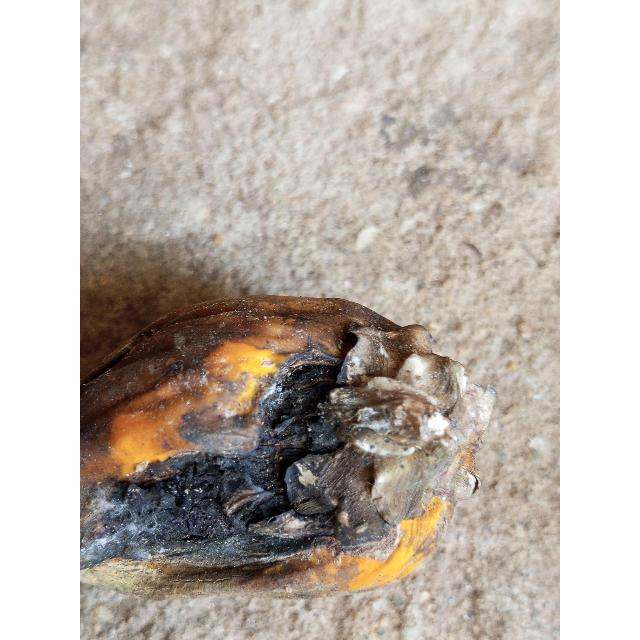damaged: (80, 296, 496, 640)
